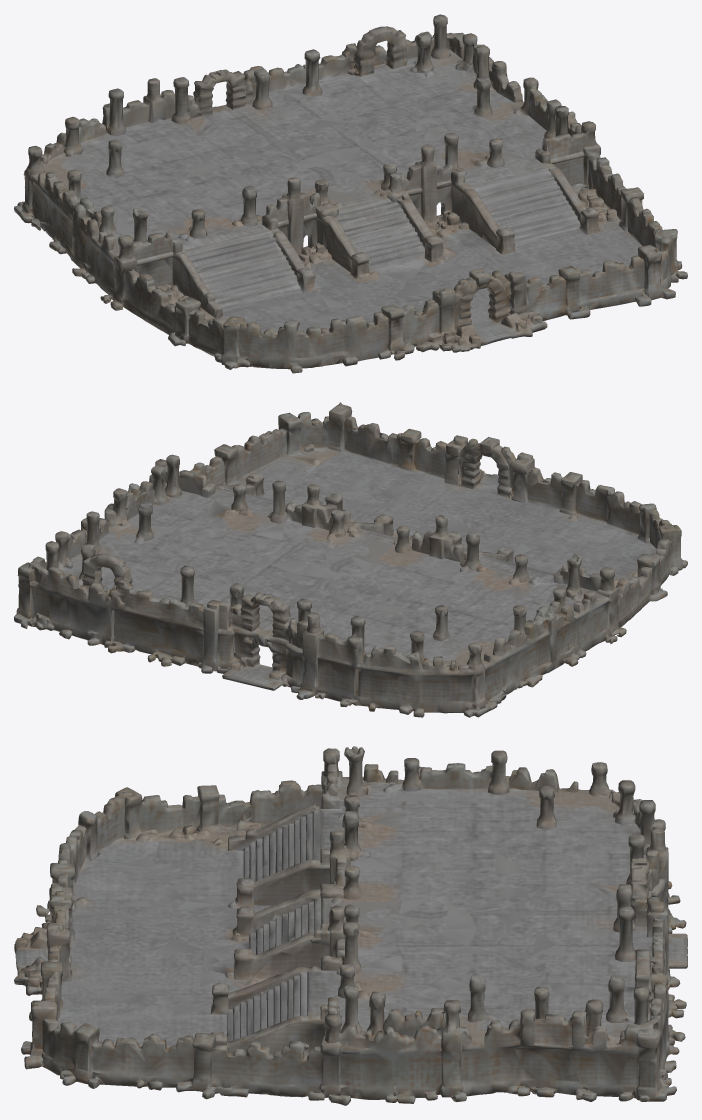
3 views of the same model, one above another, from view 1: azimuth 30°, elevation 25°; view 2: azimuth 150°, elevation 25°; view 3: azimuth 270°, elevation 25° (orthographic). The views are drawn at different scales.
Parts seen in each view (by area): view 1: valley-castle.001; view 2: valley-castle.001; view 3: valley-castle.001.
Part boxes in pixels (box(x1,y1,x2,y2)): valley-castle.001: box(14, 14, 687, 373); valley-castle.001: box(14, 402, 687, 717); valley-castle.001: box(14, 746, 687, 1105).
Bounding box in the file's own units: 79.97 × 13.13 × 79.75.
1 material, 1 textured.
